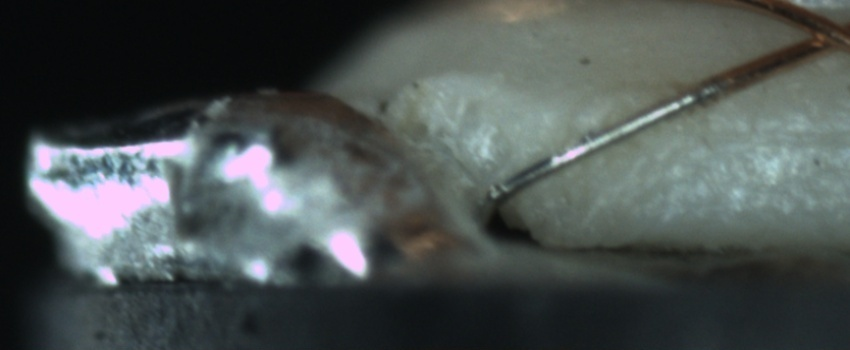CL: (783, 5, 848, 61)
DL: (705, 105, 847, 167)
TS: (489, 82, 719, 201)
